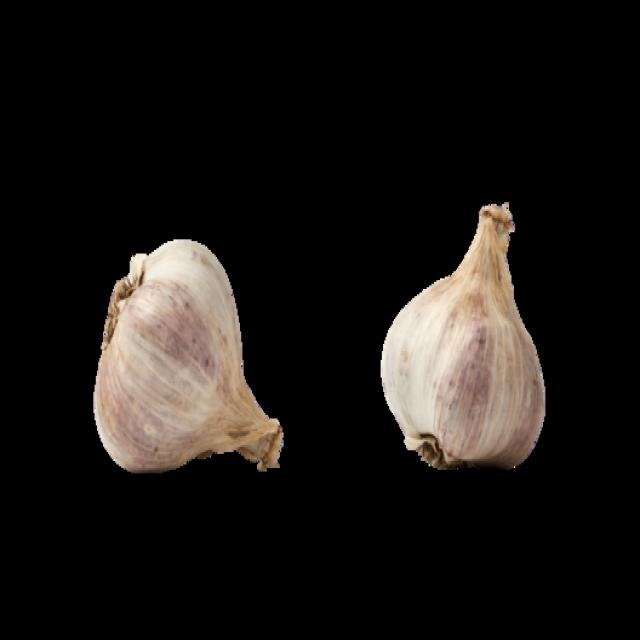garlic: (376, 258, 549, 480), (98, 242, 248, 486)
